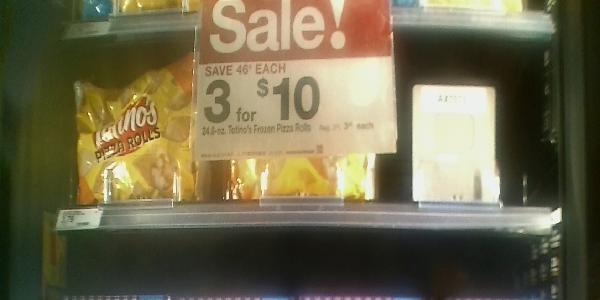icecream: (198, 26, 378, 200), (74, 47, 197, 205)
